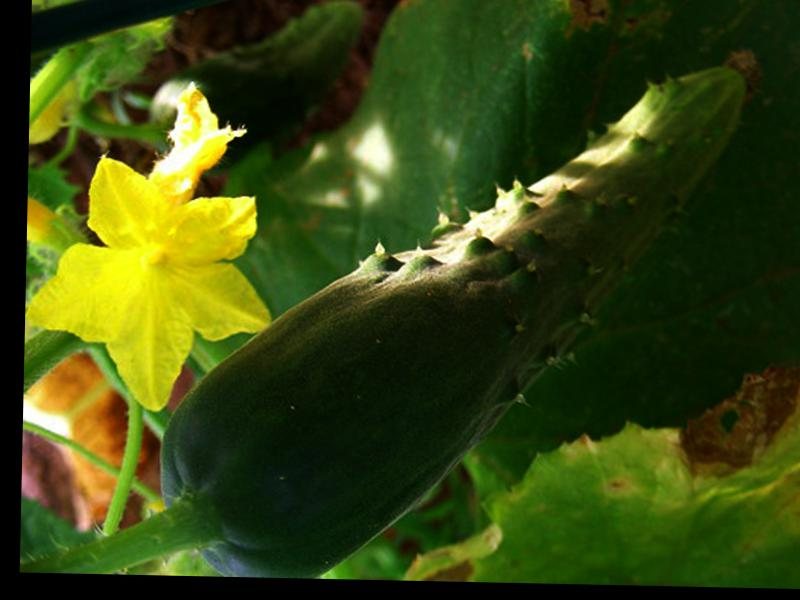Cucumber: (158, 35, 761, 585)
